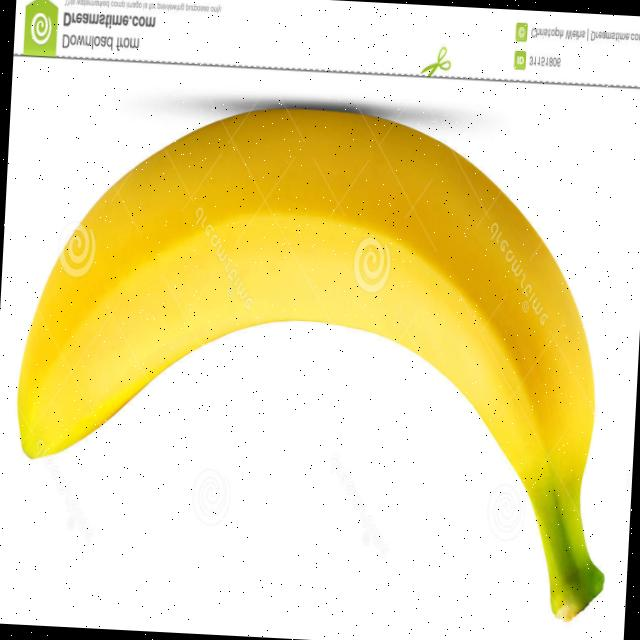Pisang: (6, 94, 628, 626)
